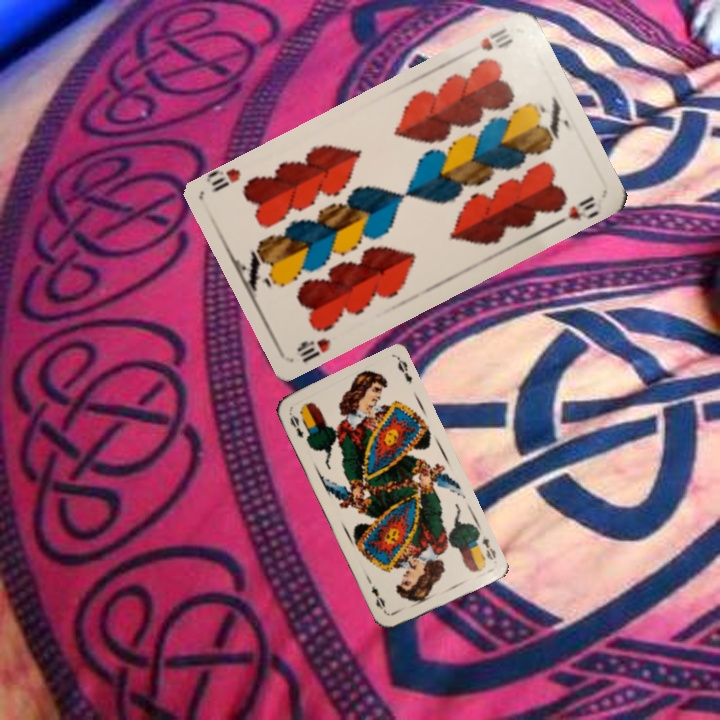EO: (285, 408, 306, 440), (478, 531, 499, 563)
H10: (292, 334, 333, 365), (476, 24, 516, 54)
